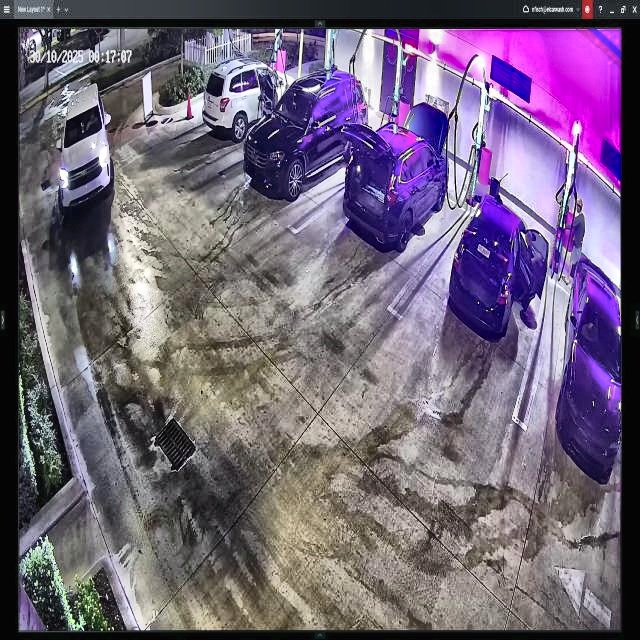Car: (248, 66, 368, 192), (346, 101, 450, 241), (445, 195, 545, 334), (201, 64, 298, 143)
